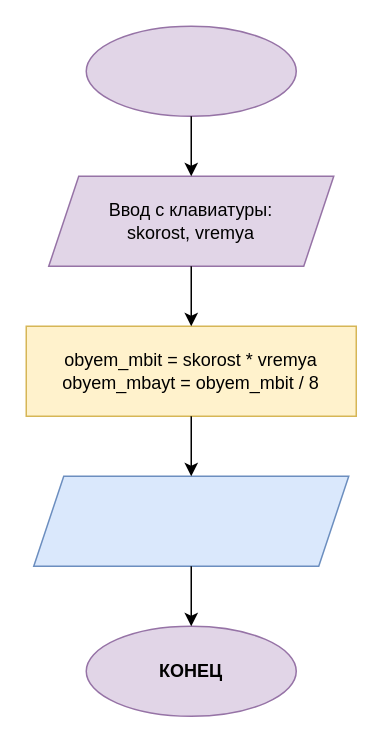
This 383x743 diagram has some shape labels left out. The shapes that lost their labels are listed below. From the top down, each one's centre as x and y in pixels, then its label:
the point at 190,70: НАЧАЛО
the point at 190,520: Вывод результатов: obyem_mbit (Мбит) obyem_mbayt (Мбайт)
